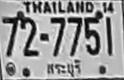1: (106, 16, 112, 55)
2: (22, 16, 38, 56)
5: (84, 17, 100, 56)
7: (1, 16, 19, 56), (50, 16, 65, 56), (68, 16, 82, 55)
SRI: (46, 59, 82, 78)
